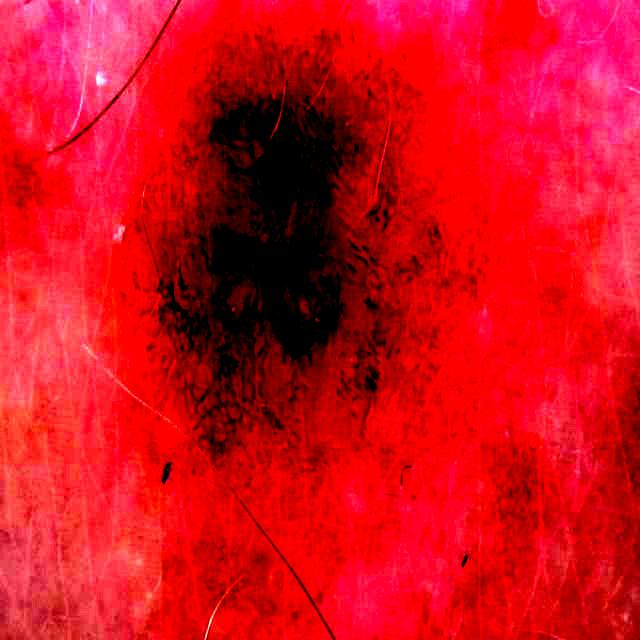NV: (142, 33, 443, 476)
